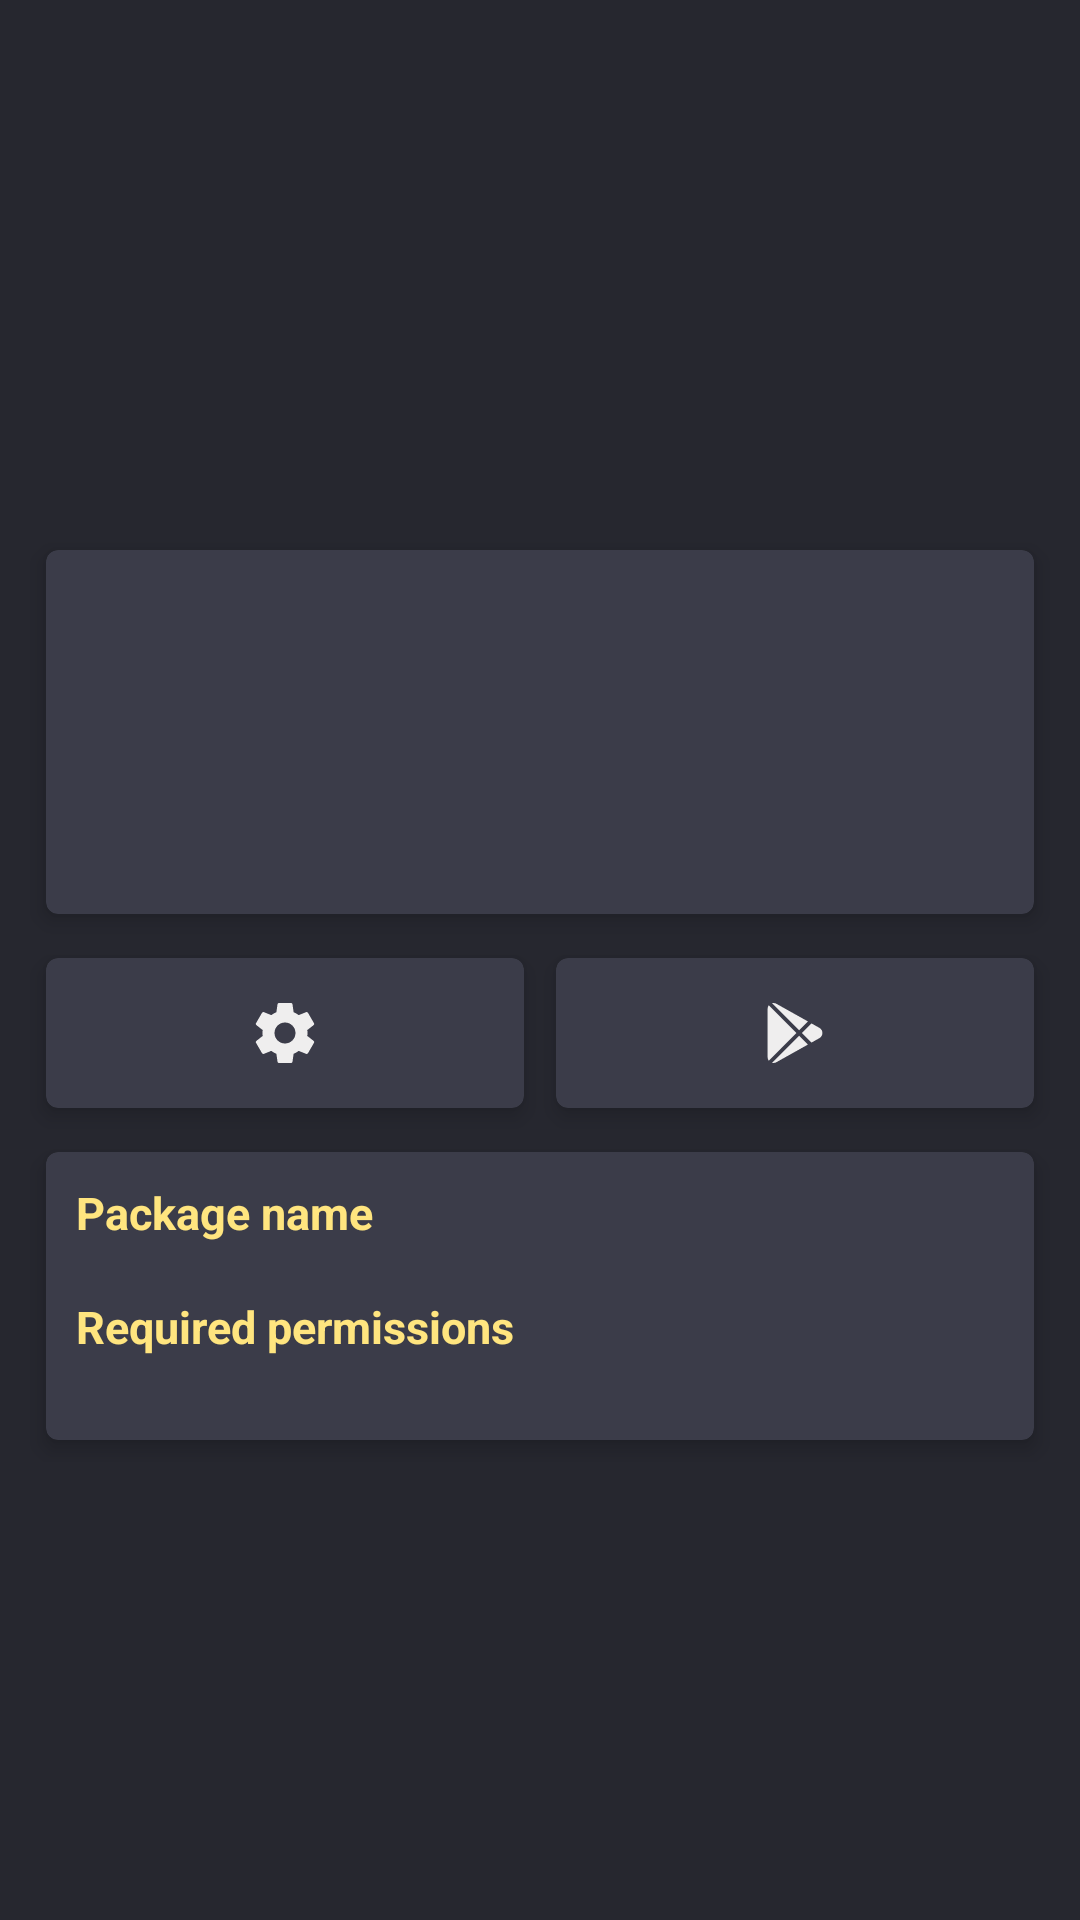

Named icons in this screenshot (1080w x 1920h) and their centers, (x,y):
settings: (285,1033)
